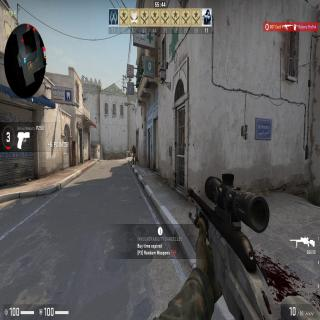T-Body: (131, 143, 137, 166)
T-Head: (133, 143, 135, 148)
